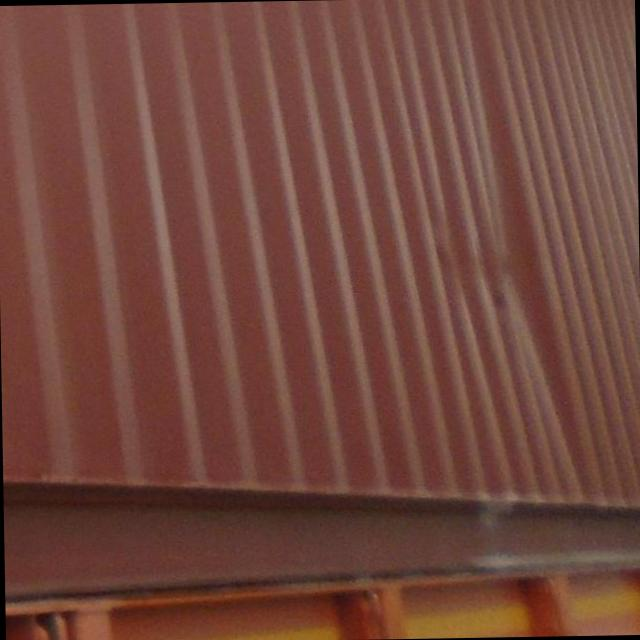Deframe_or_Dent: (484, 105, 578, 408)
